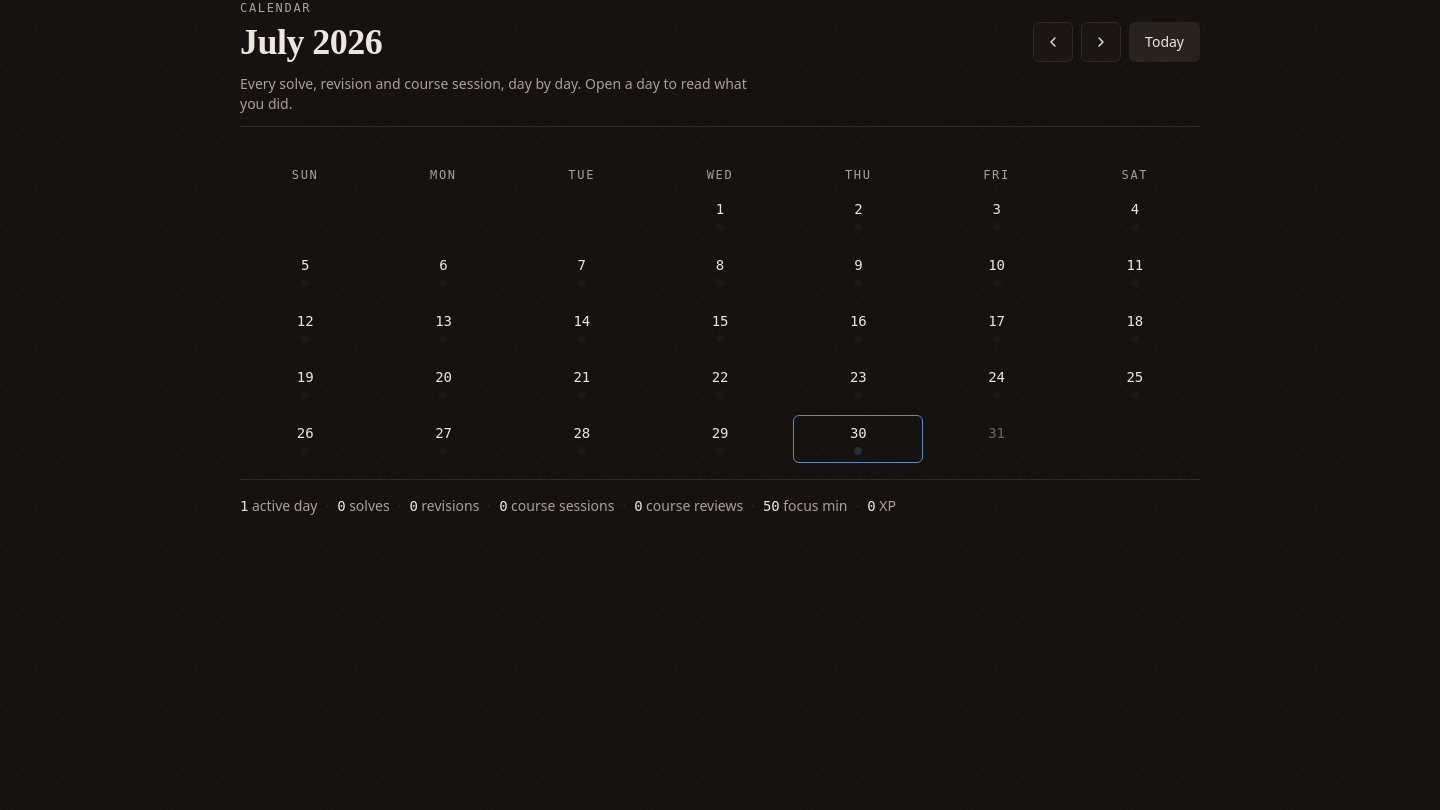
it: CalendarPage › a focus-only day is active everywhere on the page — cell, label, caption and dialog
Expected: the text "active day" reads "1 active day", [240,496,317,516]
Expected: the text "focus min" reads "50 focus min", [763,496,848,516]
Click the button named "July 30, 2026 — 0 activities, 50 focus min": {"x": 858, "y": 439} [793,415,923,463]
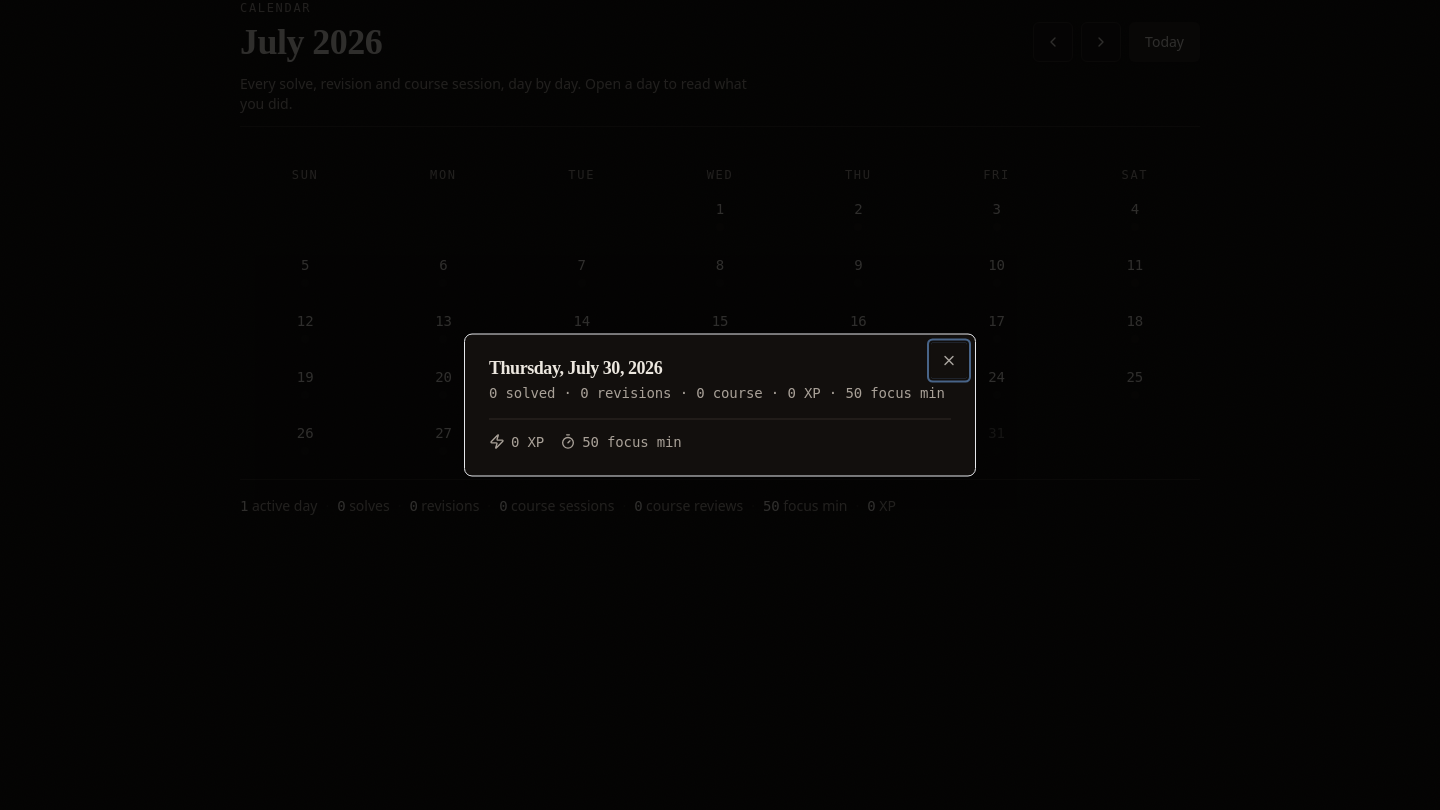
Result: the text "0 solved · 0 revisions · 0 course · 0 XP · 50 focus min" is shown at [489,382,951,402]
